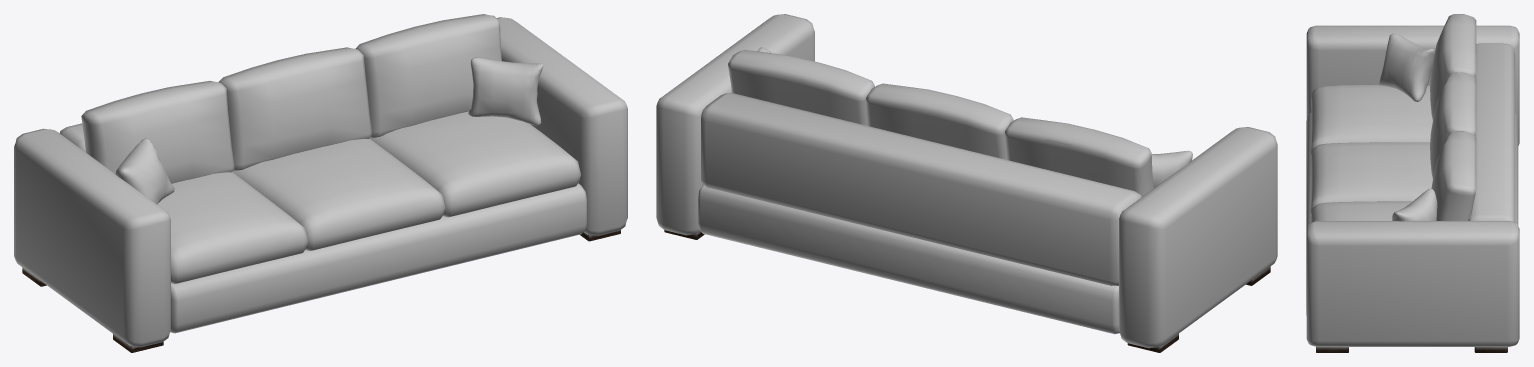
The model's file is sofa - c3c3c3.glb.
The picture shows the model from 3 angles, left to right: view 1: azimuth 30°, elevation 25°; view 2: azimuth 150°, elevation 25°; view 3: azimuth 270°, elevation 25°; orthographic projection. The views are drawn at different scales.
Parts seen in each view (by area): view 1: node_id7; view 2: node_id7; view 3: node_id7.
Part boxes in pixels (x1=…): node_id7: x1=14, y1=14, x2=627, y2=352; node_id7: x1=656, y1=14, x2=1277, y2=352; node_id7: x1=1306, y1=14, x2=1519, y2=352.
Size of the model in its own units: 0.512 by 0.1688 by 0.2147.
Materials: 1 (1 with a texture image).
